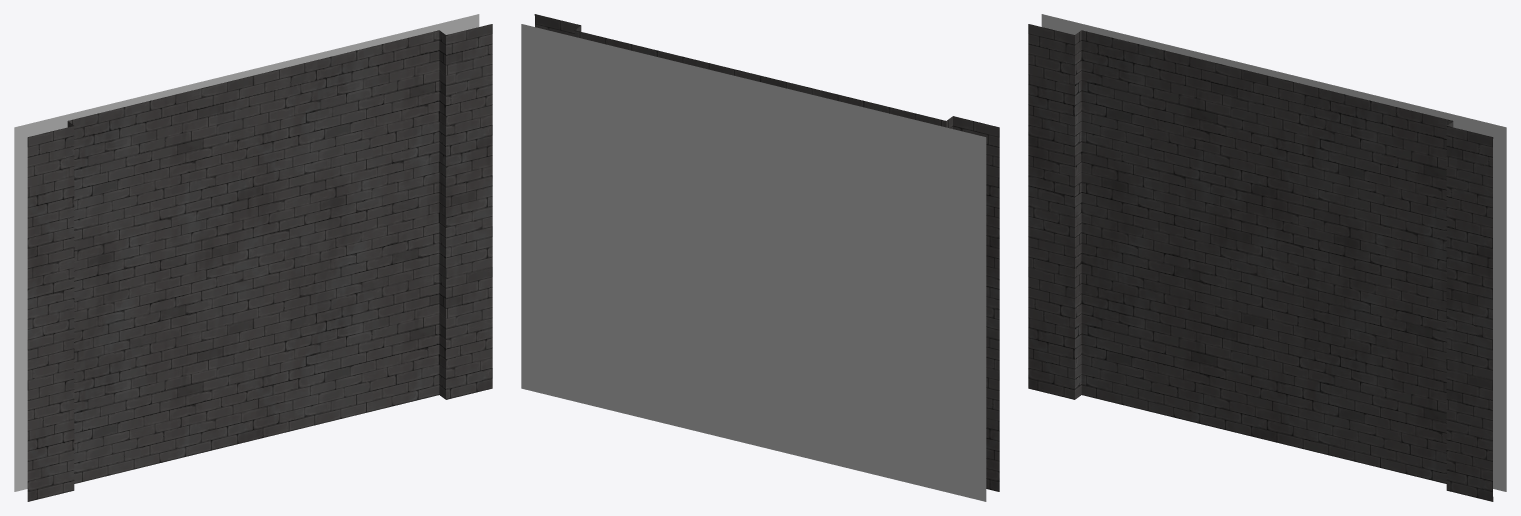
Rendered from WornBrick_Inset_Plain.gltf.
3 views of the same model, side by side, from view 1: azimuth 30°, elevation 25°; view 2: azimuth 150°, elevation 25°; view 3: azimuth 330°, elevation 25° (orthographic).
Visible parts, largest first — view 1: WornBrick_Inset_Plain; view 2: WornBrick_Inset_Plain; view 3: WornBrick_Inset_Plain.
Part boxes in pixels (x1,y1,x2,y2): WornBrick_Inset_Plain: [14, 14, 492, 501]; WornBrick_Inset_Plain: [521, 14, 999, 501]; WornBrick_Inset_Plain: [1028, 14, 1506, 501].
Size of what is drawn, in the model's own units: 4 by 3 by 0.2.
